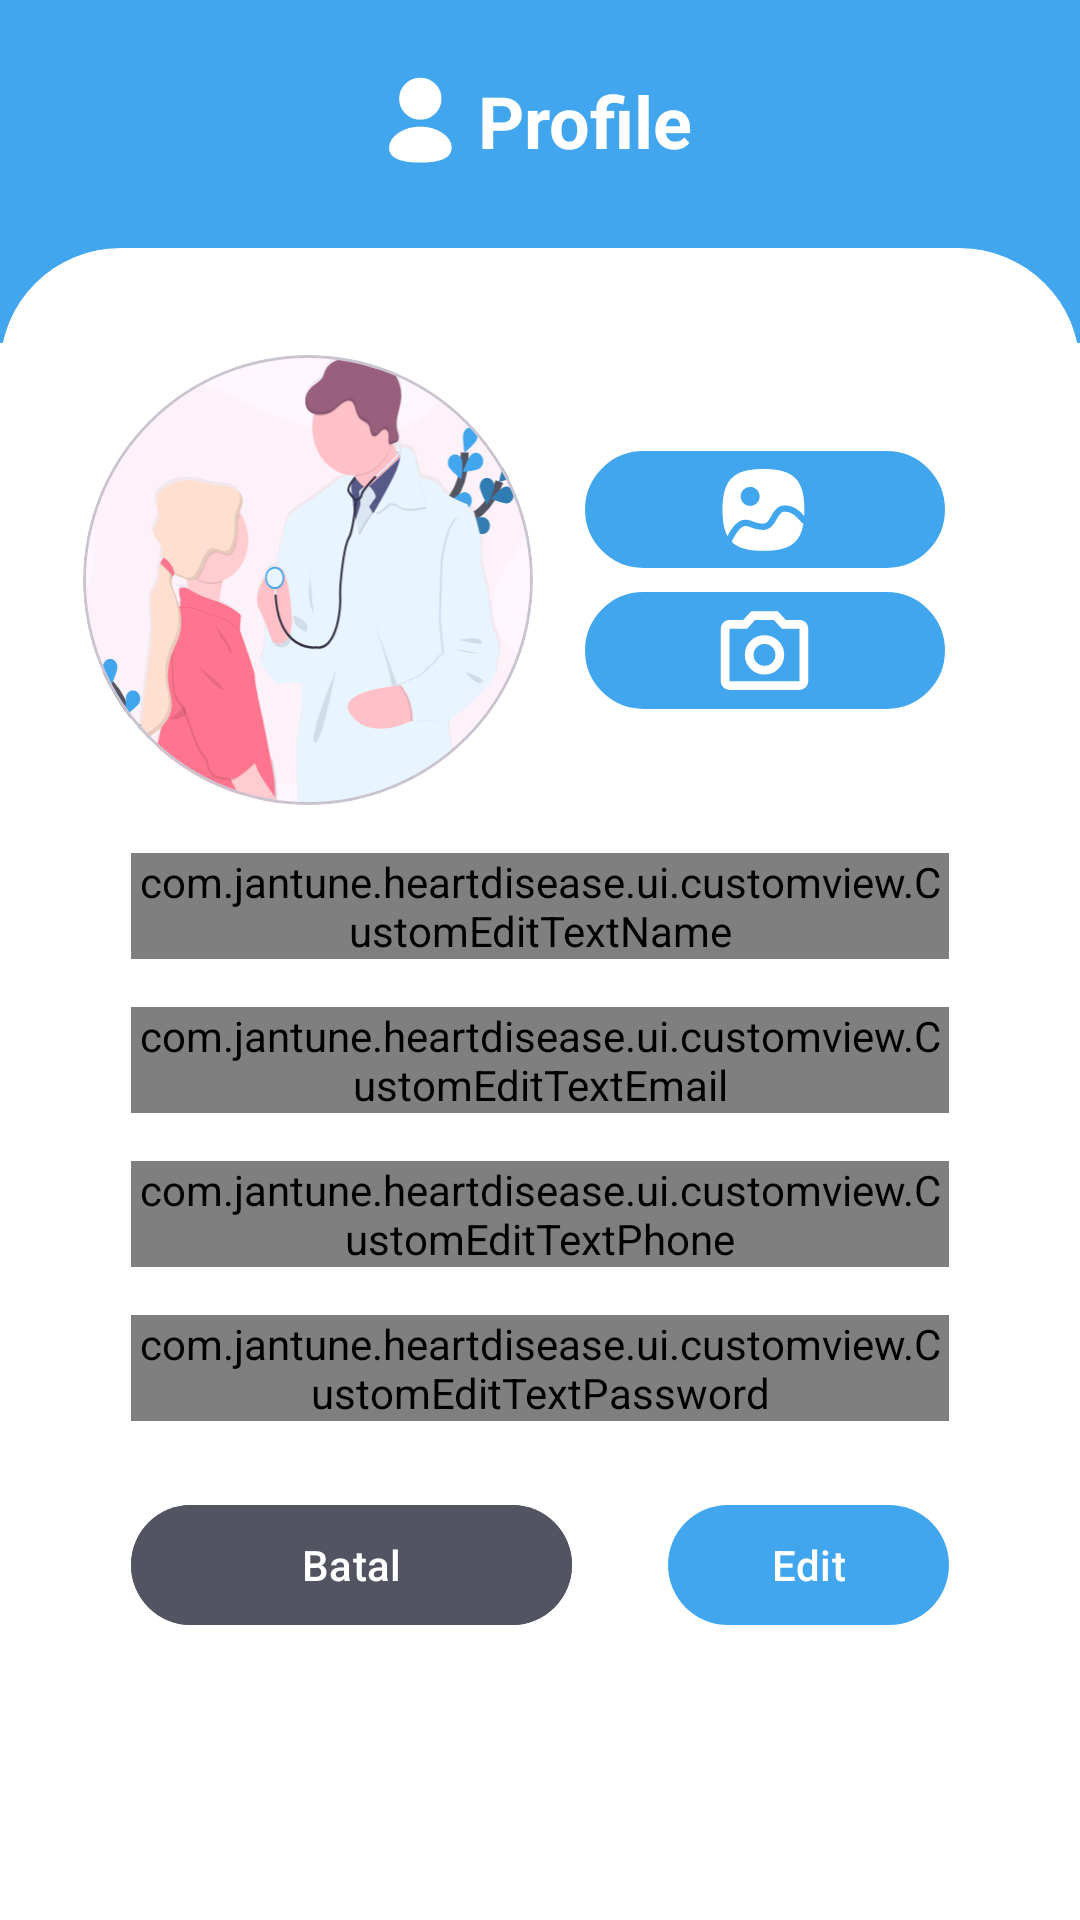

Icon click points for this 1080*1920 phone screenshot, format (x=x, y=y):
camera: (x=764, y=650)
gallery: (x=763, y=510)
